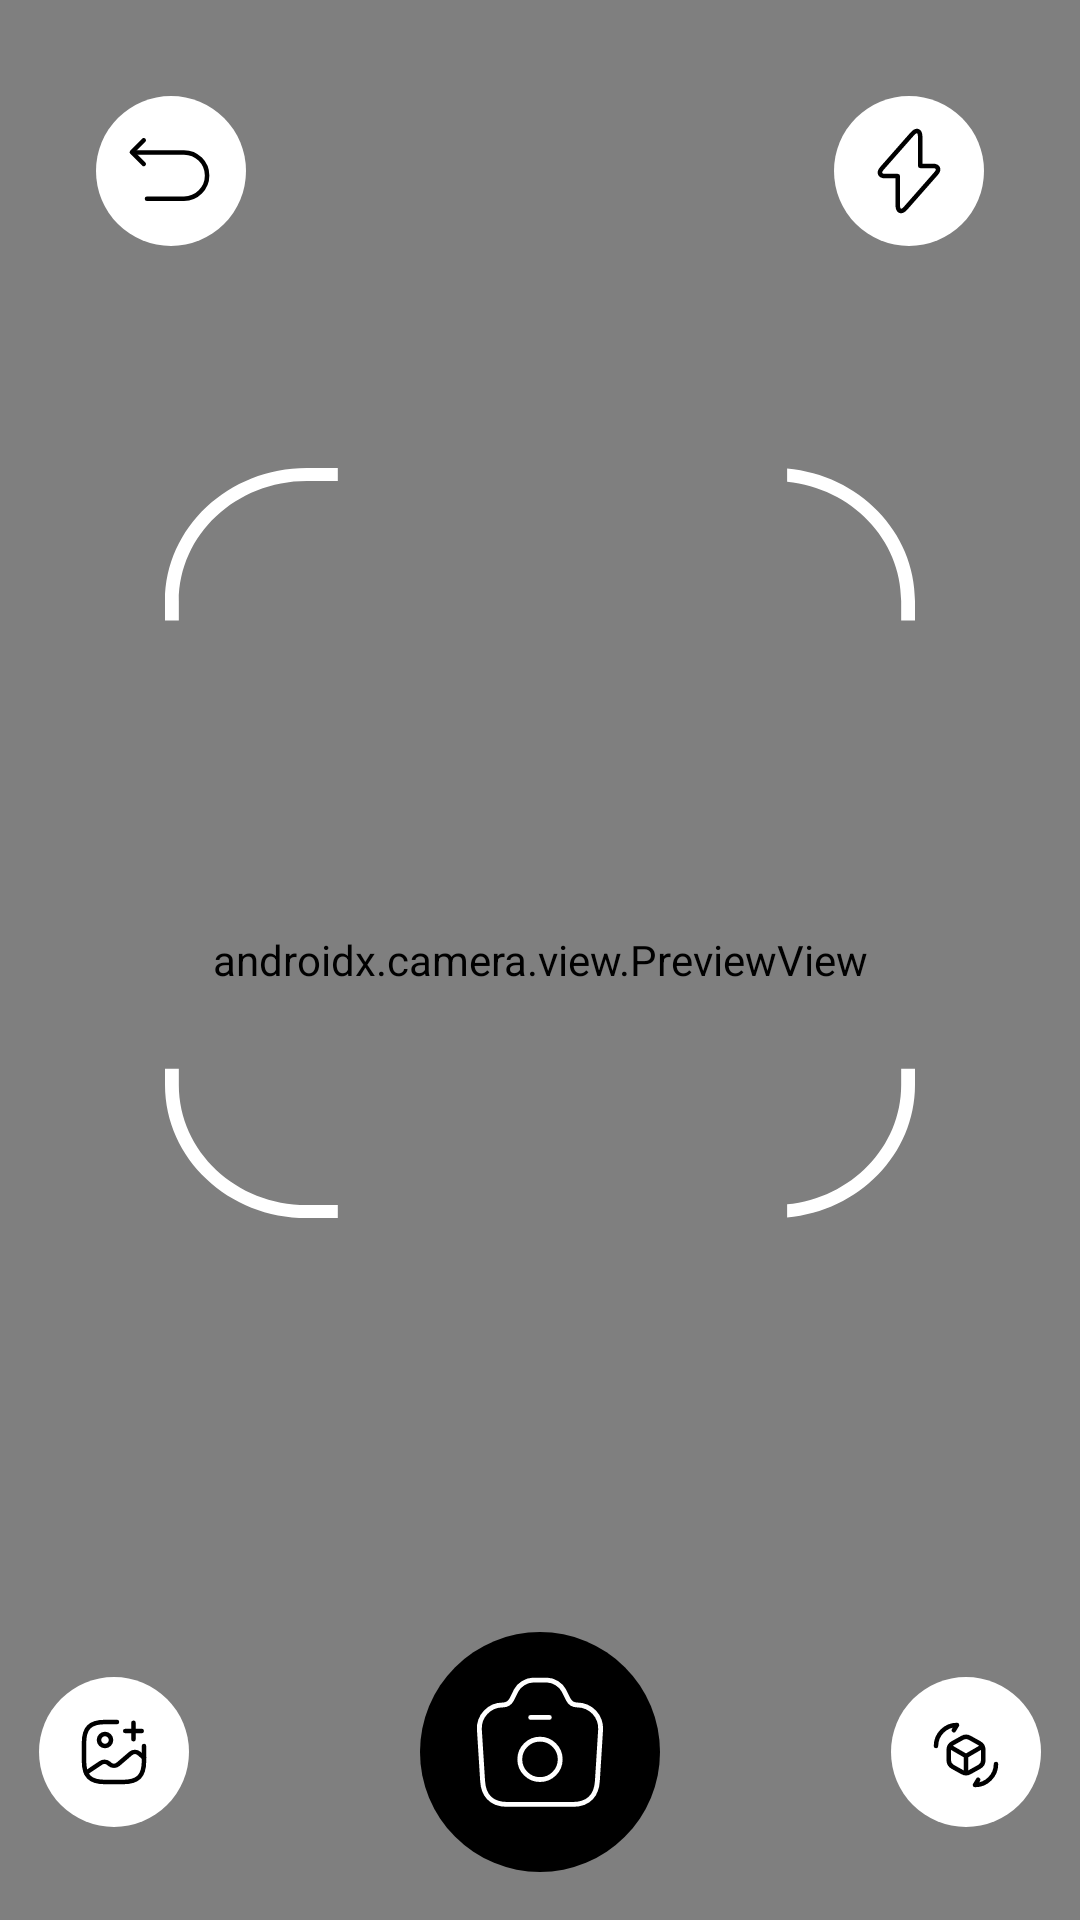

Icon click points for this 1080*1920 phone screenshot, format [x,y]:
back: [171,171]
capture: [540,1752]
flash: [909,171]
gallery: [114,1752]
switch: [966,1752]
